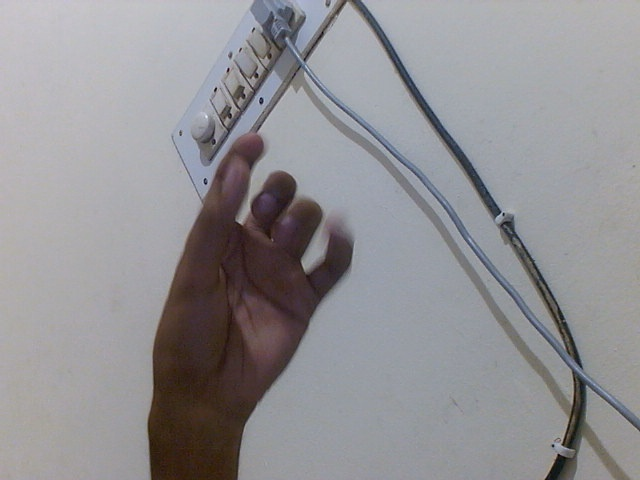hand: (146, 132, 362, 427)
